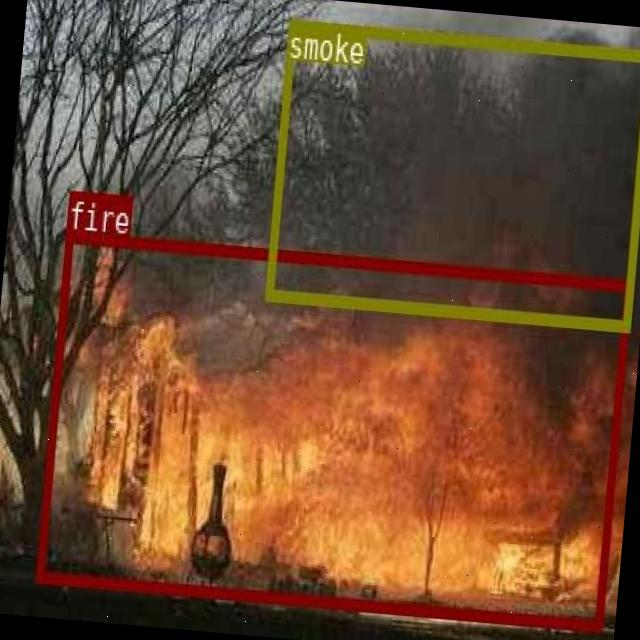fire: (34, 230, 631, 630)
smoke: (264, 17, 640, 330)
